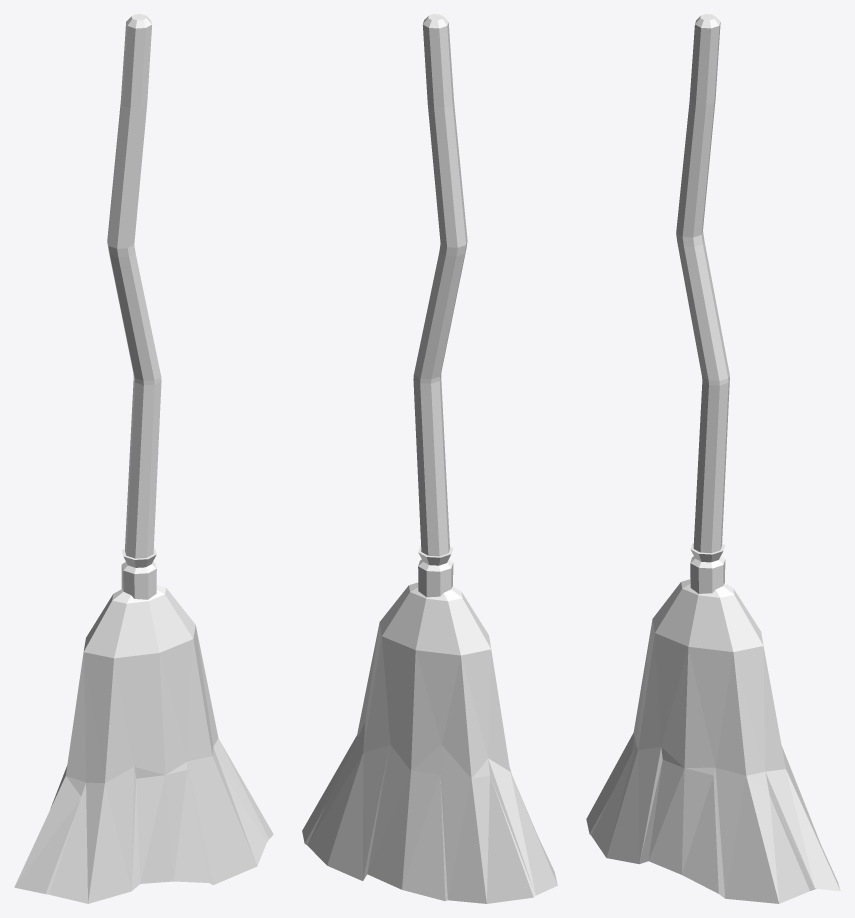
The model's file is Tool_Broom_02.glb.
3 renders of one model, left to right at view 1: azimuth 30°, elevation 25°; view 2: azimuth 150°, elevation 25°; view 3: azimuth 330°, elevation 25°, orthographic.
Visible parts, largest first — view 1: Tool_Broom_02; view 2: Tool_Broom_02; view 3: Tool_Broom_02.
Boxes of the visible parts, x1=… form: Tool_Broom_02: x1=14, y1=14, x2=273, y2=903; Tool_Broom_02: x1=302, y1=14, x2=557, y2=903; Tool_Broom_02: x1=586, y1=14, x2=840, y2=903.
Bounding box in the file's own units: 0.5376 × 1.71 × 0.2253.
1 material, 1 textured.
